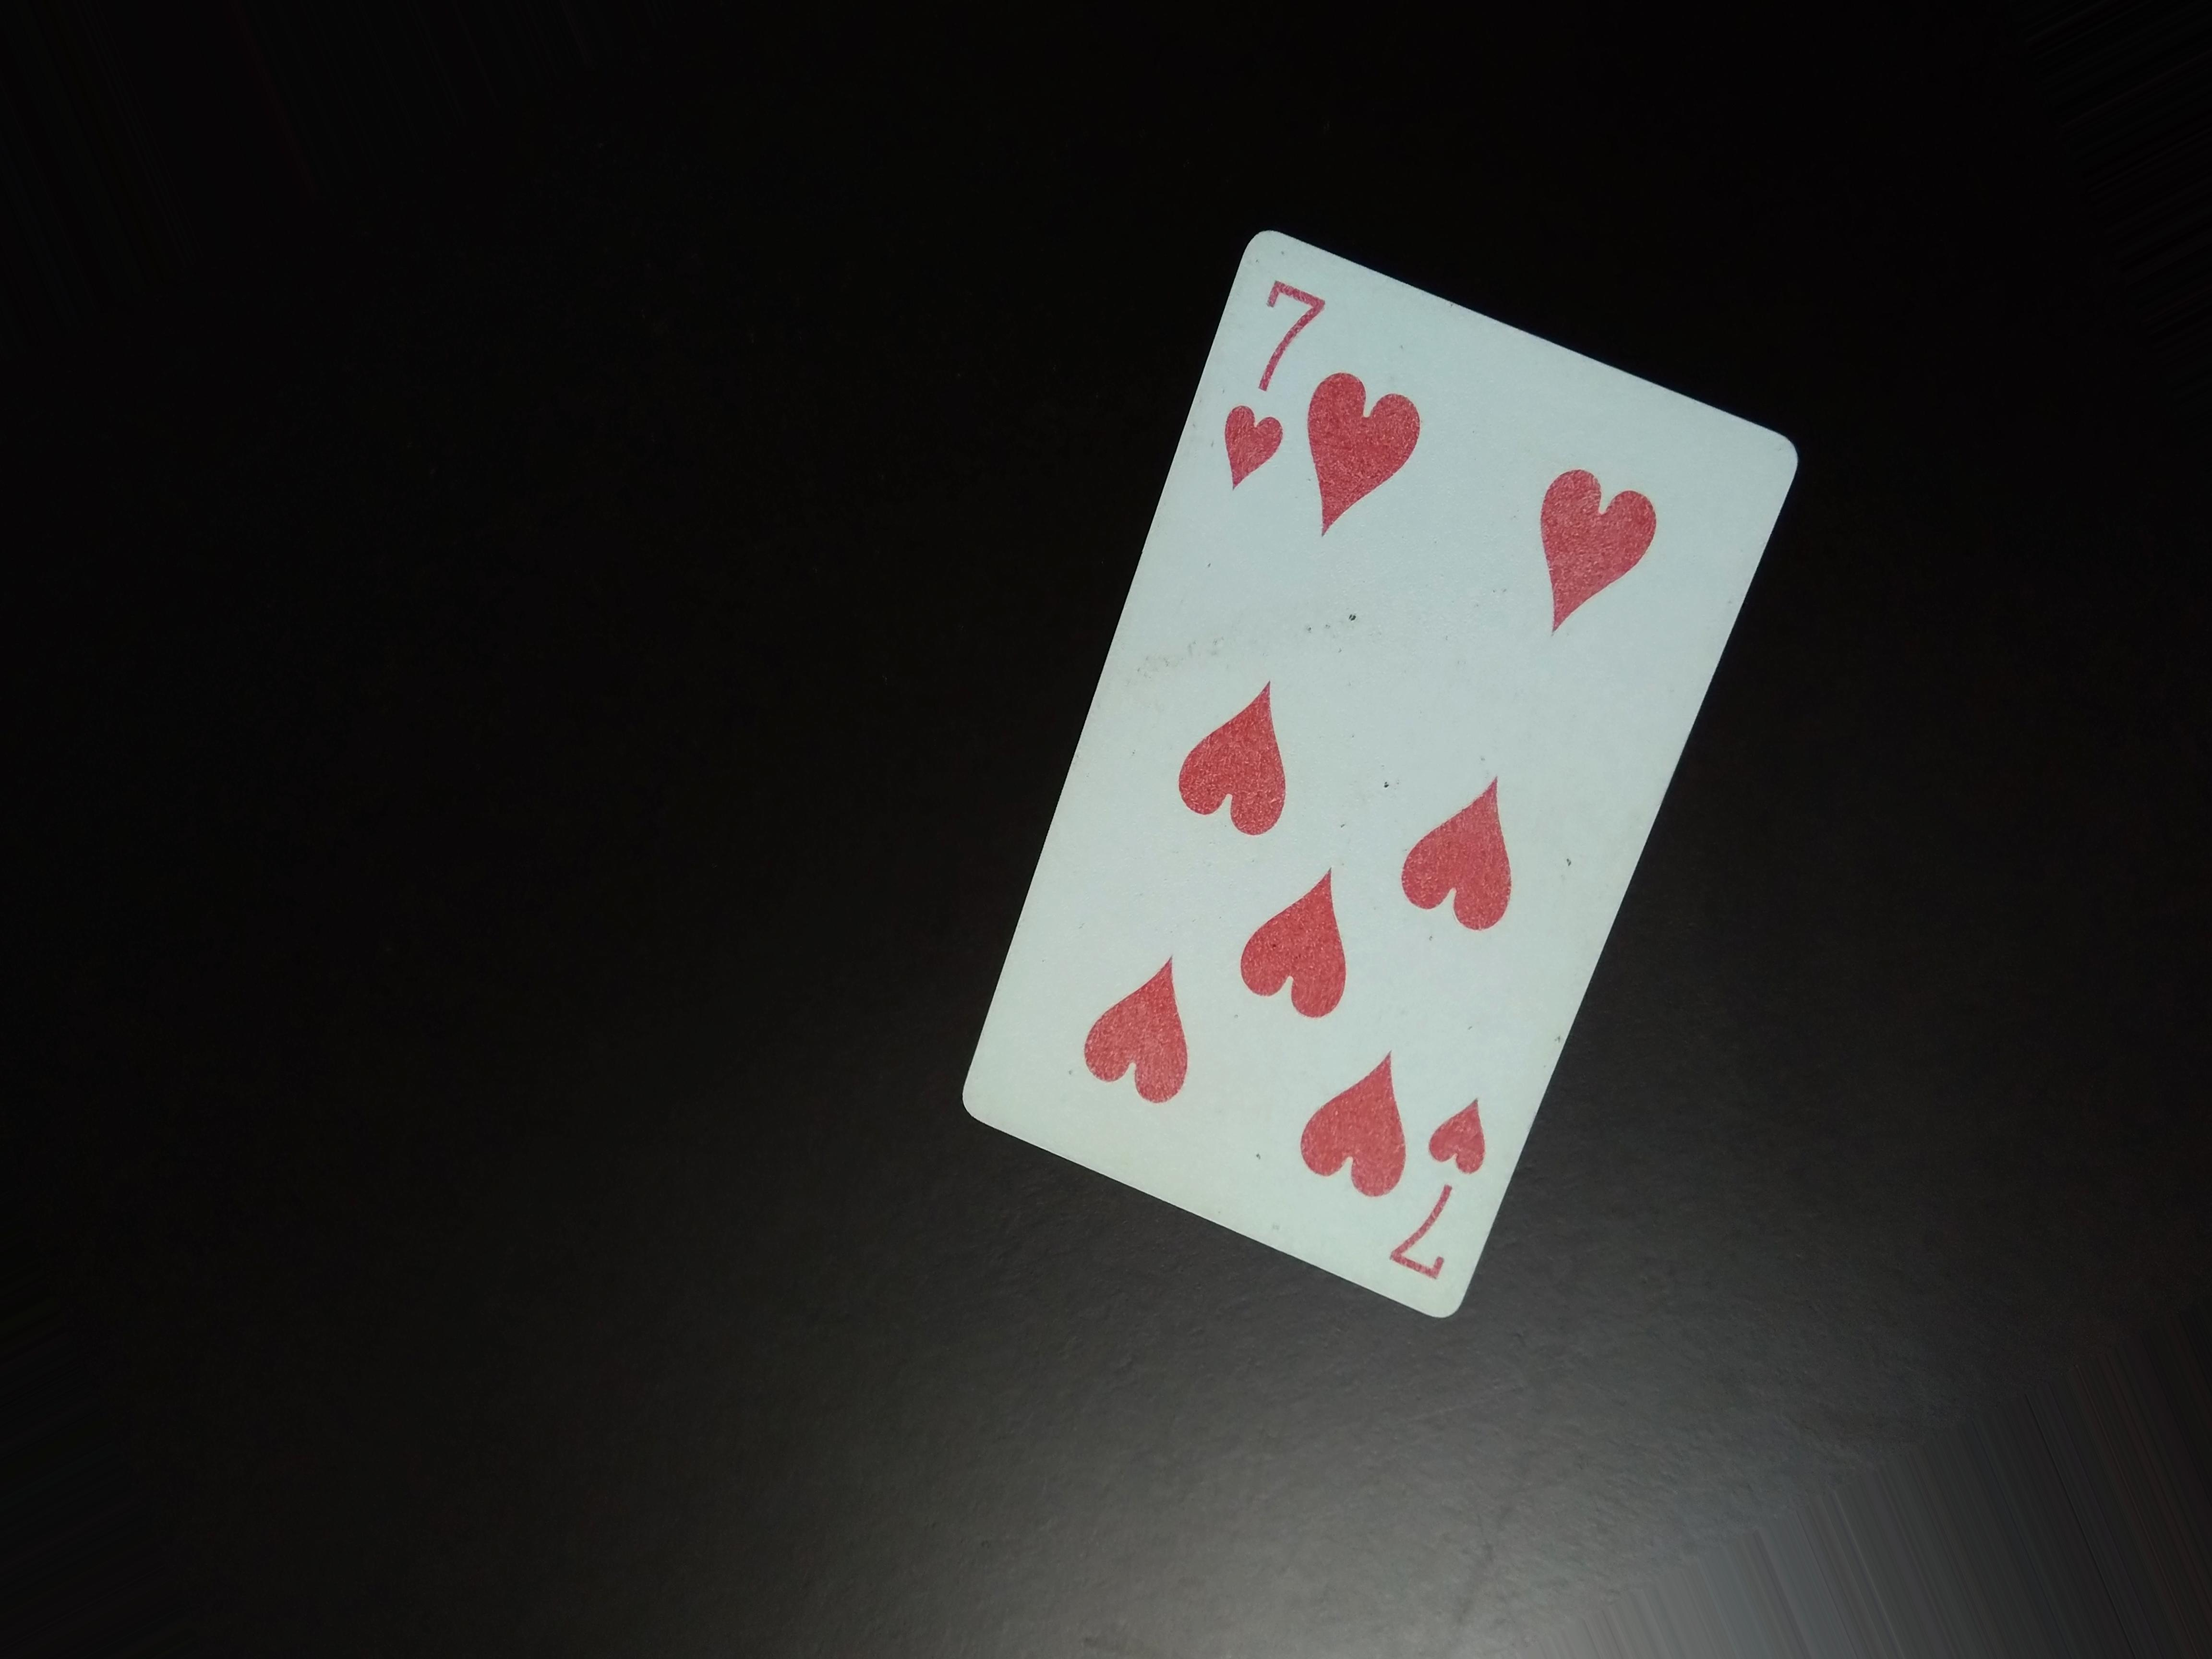7H: (1207, 261, 1331, 521)
